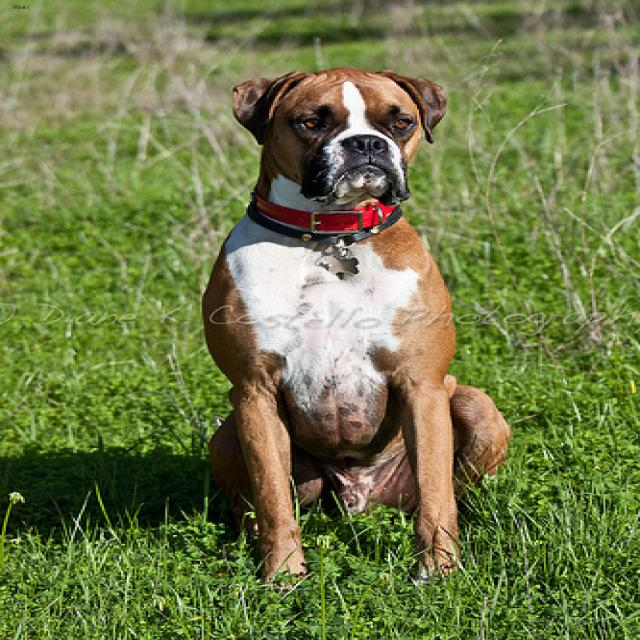dog-boxer: (185, 61, 536, 586)
